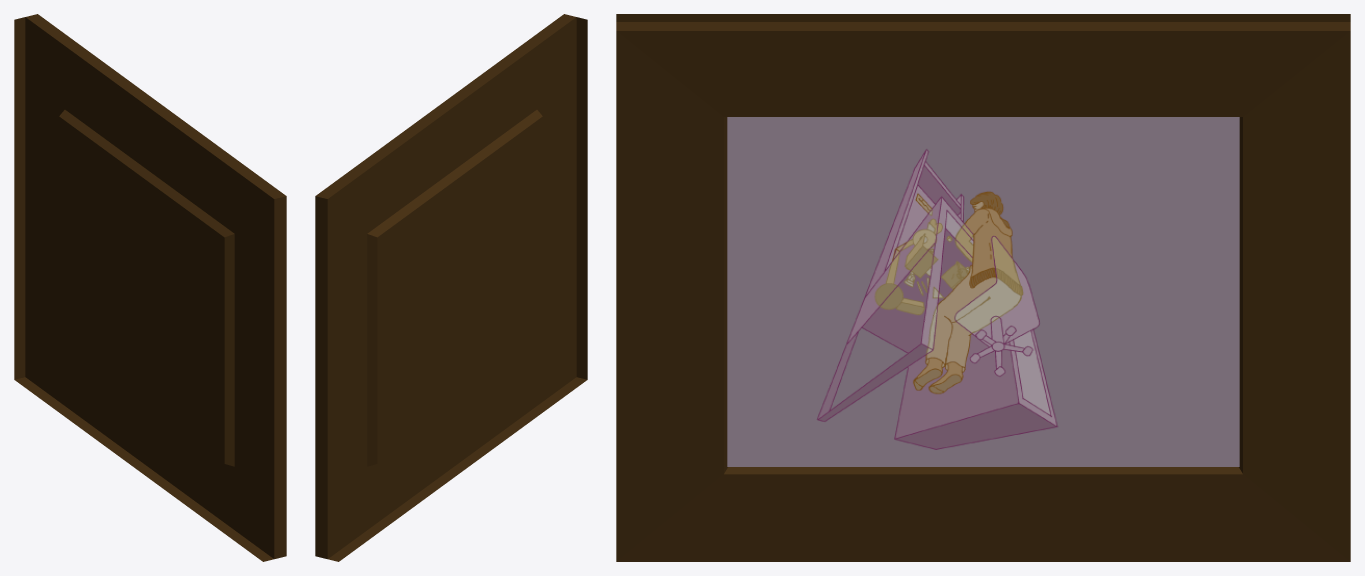
The model's file is Bubble3.glb.
The picture shows the model from 3 angles, left to right: view 1: azimuth 30°, elevation 25°; view 2: azimuth 150°, elevation 25°; view 3: azimuth 270°, elevation 25°; orthographic projection. The views are drawn at different scales.
Parts seen in each view (by area): view 1: Plane.001, Plane; view 2: Plane.001, Plane; view 3: Plane.001, Bubble3, Plane.
Part boxes in pixels (box(x1,y1,x2,y2)): Plane.001: box(25, 14, 286, 559); Plane: box(14, 17, 273, 561); Plane.001: box(315, 14, 576, 559); Plane: box(328, 17, 587, 561); Plane.001: box(616, 22, 1350, 561); Bubble3: box(727, 117, 1239, 466); Plane: box(616, 14, 1350, 21).
Bounding box in the file's own units: 0.1001 × 1.47 × 1.84.
2 materials, 1 textured.
